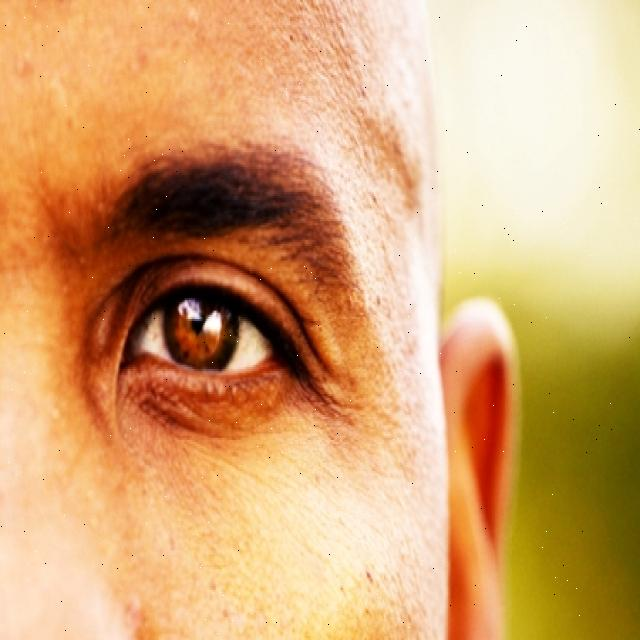Normal: (161, 269, 238, 385)
